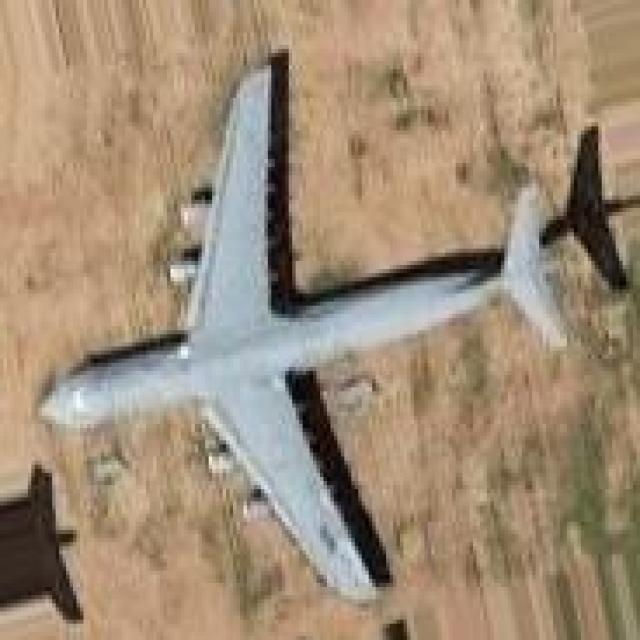C-5_TopDown: (35, 41, 636, 603)
